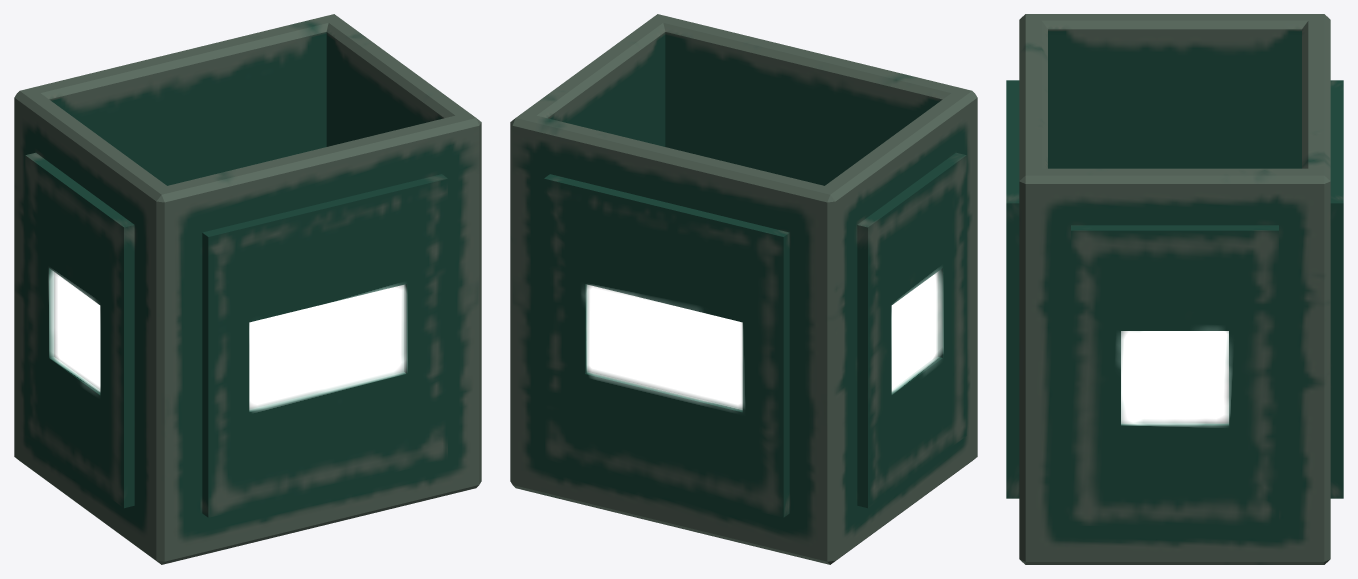
Rendered from Trash Bin.fbx.
3 views of the same model, side by side, from view 1: azimuth 30°, elevation 25°; view 2: azimuth 150°, elevation 25°; view 3: azimuth 270°, elevation 25° (orthographic). The views are drawn at different scales.
Visible parts, largest first — view 1: Trash Bin; view 2: Trash Bin; view 3: Trash Bin.
Part boxes in pixels (box(x1,y1,x2,y2)): Trash Bin: box(14, 14, 481, 564); Trash Bin: box(510, 14, 977, 564); Trash Bin: box(1006, 14, 1343, 564).
Bounding box in the file's own units: 33.49 × 34.18 × 26.85.
